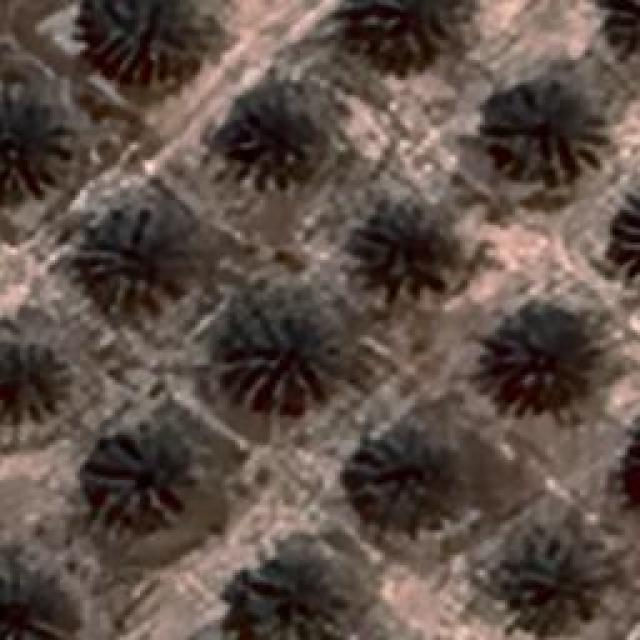PalmTree: (34, 29, 623, 605), (222, 312, 342, 412), (490, 82, 605, 180), (498, 308, 600, 416), (85, 425, 193, 525), (82, 215, 188, 315), (82, 0, 202, 85), (228, 82, 322, 188), (510, 524, 602, 622), (230, 562, 345, 636), (346, 435, 446, 520), (366, 210, 456, 302), (0, 94, 65, 198), (0, 330, 65, 428), (360, 0, 470, 55), (614, 416, 640, 516), (612, 195, 638, 283), (623, 416, 640, 515), (629, 418, 640, 514)
